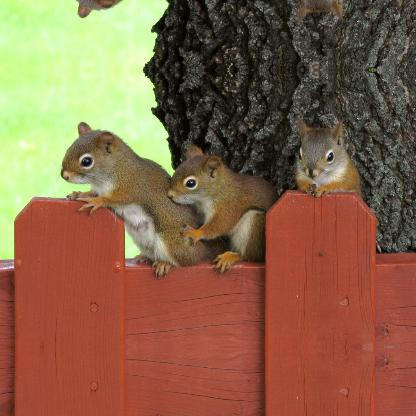Squirrel: (58, 122, 208, 276), (166, 144, 278, 276), (290, 116, 360, 198), (290, 0, 361, 22)
